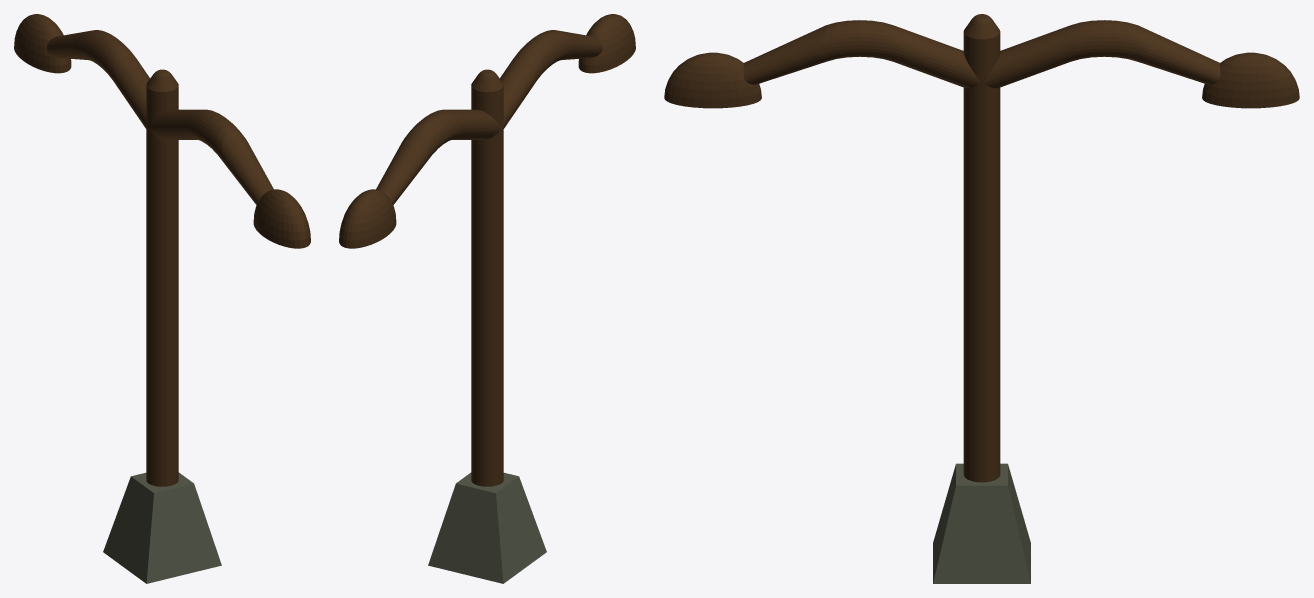
The model's file is street_lamp.glb.
The picture shows the model from 3 angles, left to right: view 1: azimuth 30°, elevation 25°; view 2: azimuth 150°, elevation 25°; view 3: azimuth 270°, elevation 25°; orthographic projection. The views are drawn at different scales.
Visible parts, largest first — view 1: Sphere.001; view 2: Sphere.001; view 3: Sphere.001.
Part boxes in pixels (bbox=[...]): Sphere.001: bbox=[14, 14, 310, 583]; Sphere.001: bbox=[339, 14, 635, 583]; Sphere.001: bbox=[664, 14, 1299, 583].
Bounding box in the file's own units: 2 × 12.35 × 13.
